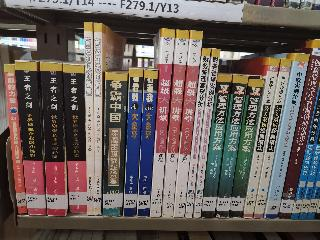book-spine: (274, 39, 320, 222), (262, 52, 310, 220), (241, 56, 282, 221), (252, 57, 291, 221), (171, 30, 203, 219), (160, 30, 189, 217), (14, 58, 48, 217), (148, 28, 175, 219), (229, 74, 264, 220), (199, 74, 233, 221), (183, 48, 212, 219), (192, 50, 221, 219), (97, 71, 129, 218), (216, 74, 248, 220), (38, 61, 67, 217), (3, 63, 28, 216), (120, 65, 145, 217), (62, 64, 87, 215), (136, 68, 157, 217), (83, 23, 94, 216), (94, 22, 103, 216)
